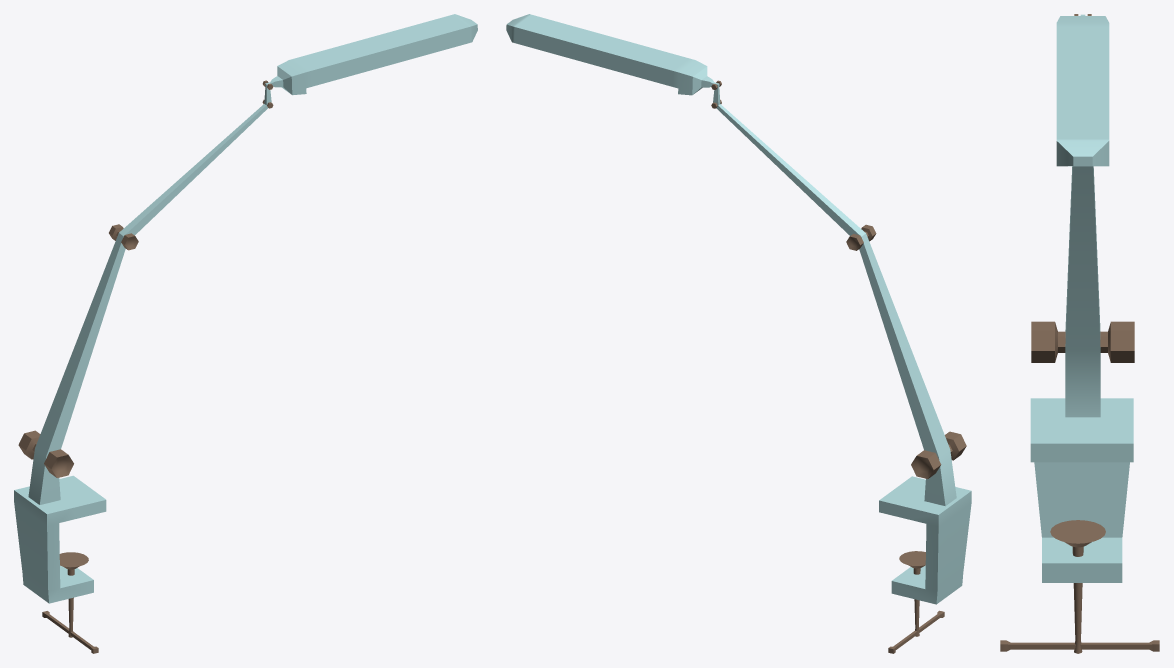
Rendered from F11_Lamp.fbx.
3 views of the same model, side by side, from view 1: azimuth 30°, elevation 25°; view 2: azimuth 150°, elevation 25°; view 3: azimuth 270°, elevation 25° (orthographic). The views are drawn at different scales.
Visible parts, largest first — view 1: AdjustableLamp; view 2: AdjustableLamp; view 3: AdjustableLamp.
Part boxes in pixels (box(x1,y1,x2,y2)): AdjustableLamp: box(14, 14, 477, 653); AdjustableLamp: box(506, 14, 971, 653); AdjustableLamp: box(1000, 14, 1159, 653).
Size of the model in its own units: 1.86 by 2.08 by 0.3684.
